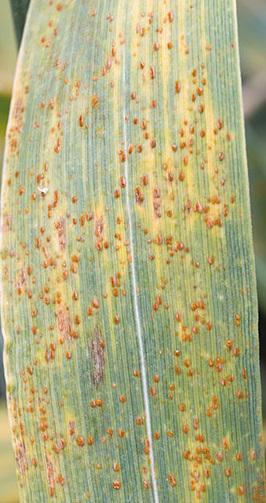Corn: (14, 331, 247, 499), (27, 180, 241, 350), (16, 33, 234, 185)
